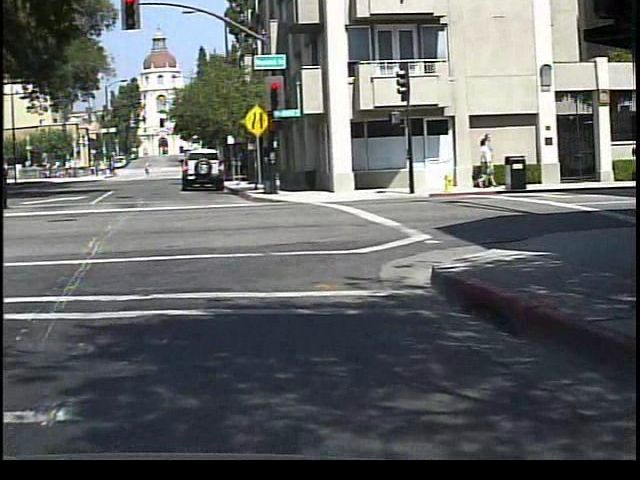person: (3, 169, 30, 229), (4, 157, 23, 213), (144, 161, 154, 178)
